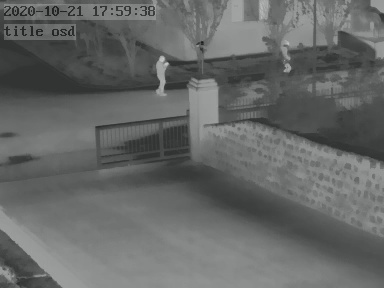person: (155, 52, 169, 93), (282, 40, 293, 71)
